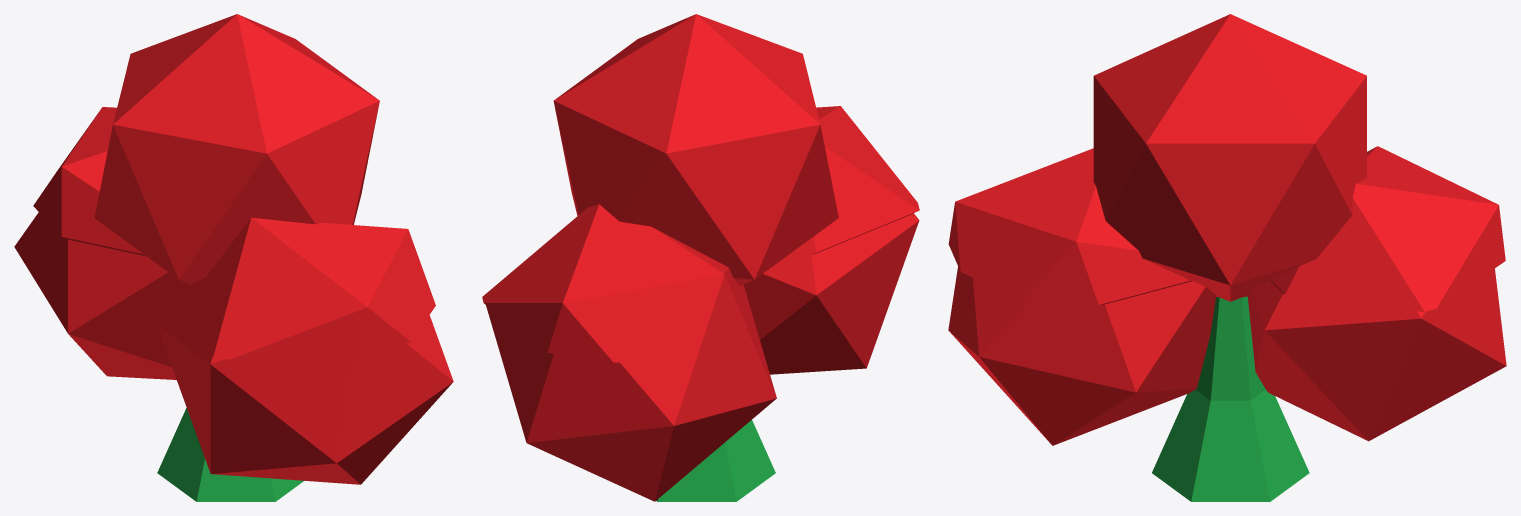
Rendered from SmallBush3.obj.
3 views of the same model, side by side, from view 1: azimuth 30°, elevation 25°; view 2: azimuth 150°, elevation 25°; view 3: azimuth 270°, elevation 25° (orthographic).
Parts seen in each view (by area): view 1: Cylinder_Cylinder.007; view 2: Cylinder_Cylinder.007; view 3: Cylinder_Cylinder.007.
Boxes of the visible parts, x1,y1,x2,y2 form: Cylinder_Cylinder.007: (14,14,453,501); Cylinder_Cylinder.007: (482,14,919,501); Cylinder_Cylinder.007: (948,14,1506,501).
Bounding box in the file's own units: 0.3581 × 0.6299 × 0.6936.
